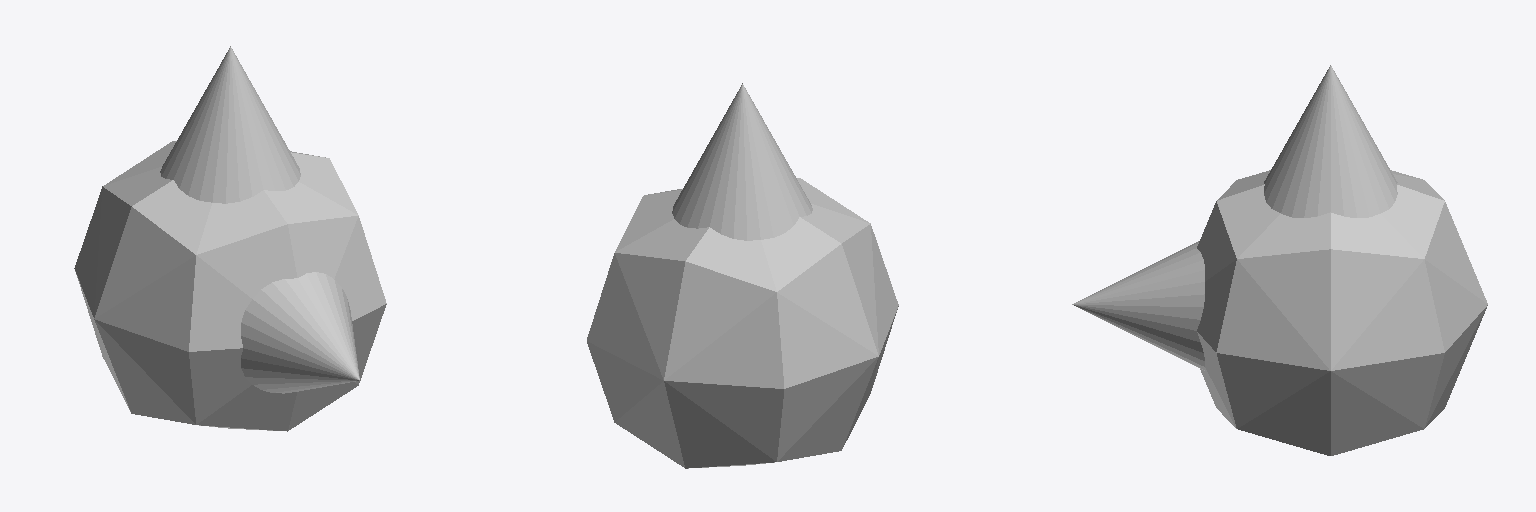
Rendered from dummyEnemy.obj.
3 views of the same model, side by side, from view 1: azimuth 30°, elevation 25°; view 2: azimuth 150°, elevation 25°; view 3: azimuth 270°, elevation 25° (orthographic).
Visible parts, largest first — view 1: Cube, 円錐.001, 円錐; view 2: Cube, 円錐.001; view 3: Cube, 円錐.001, 円錐.
Part boxes in pixels (left/top/right/bottom): Cube: left=74, top=141, right=386, bottom=431; 円錐.001: left=160, top=46, right=300, bottom=203; 円錐: left=241, top=272, right=359, bottom=393; Cube: left=587, top=178, right=898, bottom=468; 円錐.001: left=672, top=83, right=812, bottom=240; Cube: left=1197, top=170, right=1487, bottom=455; 円錐.001: left=1264, top=65, right=1397, bottom=217; 円錐: left=1072, top=241, right=1204, bottom=370.
Size of the model in its own units: 1.68 by 2.25 by 2.22.